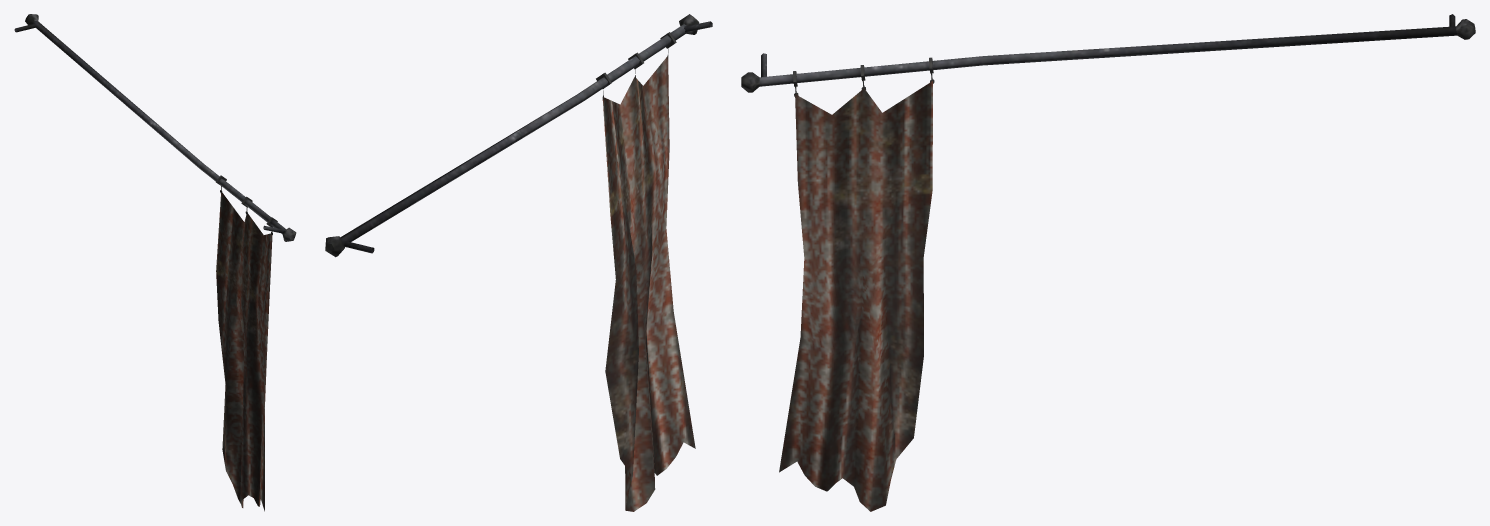
File: Double_ExpCurtainSet_T03.FBX
3 renders of one model, left to right at view 1: azimuth 30°, elevation 25°; view 2: azimuth 150°, elevation 25°; view 3: azimuth 270°, elevation 25°, orthographic. The views are drawn at different scales.
Visible parts, largest first — view 1: Double_ExpCurtainSet_T03; view 2: Double_ExpCurtainSet_T03; view 3: Double_ExpCurtainSet_T03.
Boxes of the visible parts, x1,y1,x2,y2 form: Double_ExpCurtainSet_T03: [14, 14, 296, 511]; Double_ExpCurtainSet_T03: [325, 14, 712, 511]; Double_ExpCurtainSet_T03: [741, 14, 1475, 511].
Bounding box in the file's own units: 21.34 × 202 × 275.
